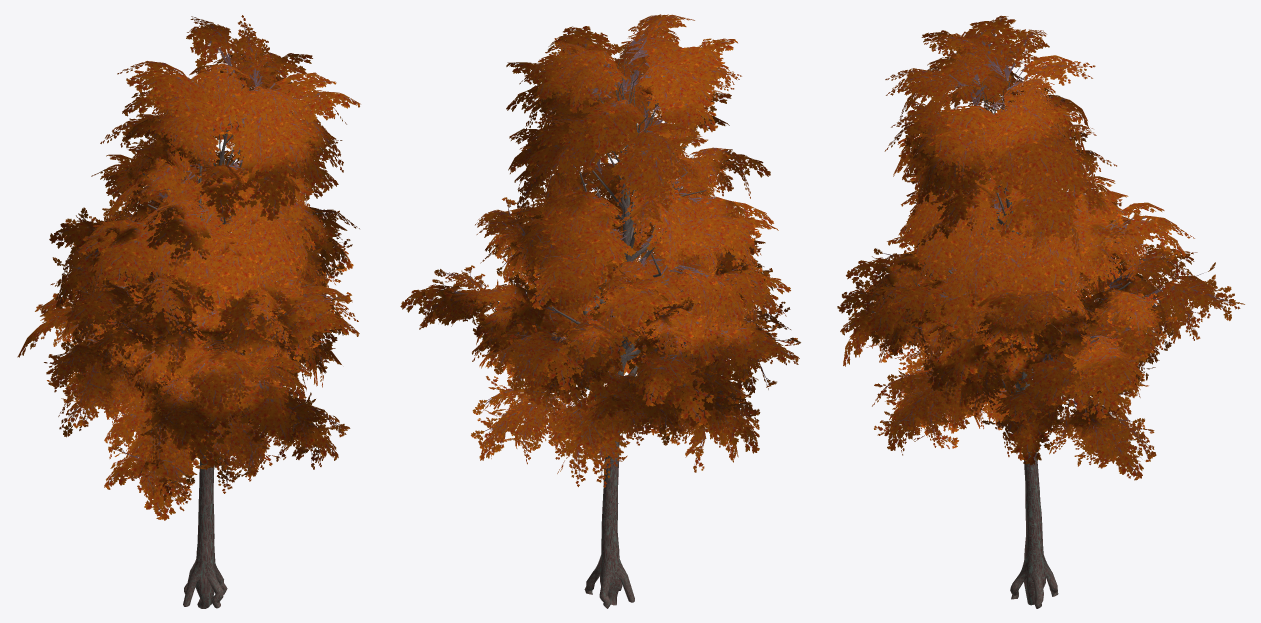
3 renders of one model, left to right at view 1: azimuth 30°, elevation 25°; view 2: azimuth 150°, elevation 25°; view 3: azimuth 270°, elevation 25°, orthographic. The views are drawn at different scales.
Visible parts, largest first — view 1: SM_MapleTree_02_LOD0; view 2: SM_MapleTree_02_LOD0; view 3: SM_MapleTree_02_LOD0.
Part boxes in pixels (<box>): SM_MapleTree_02_LOD0: <box>17,15,360,608</box>; SM_MapleTree_02_LOD0: <box>400,14,800,608</box>; SM_MapleTree_02_LOD0: <box>837,15,1244,608</box>.
Bounding box in the file's own units: 13.76 × 21.84 × 14.63.
2 materials, 2 textured.
